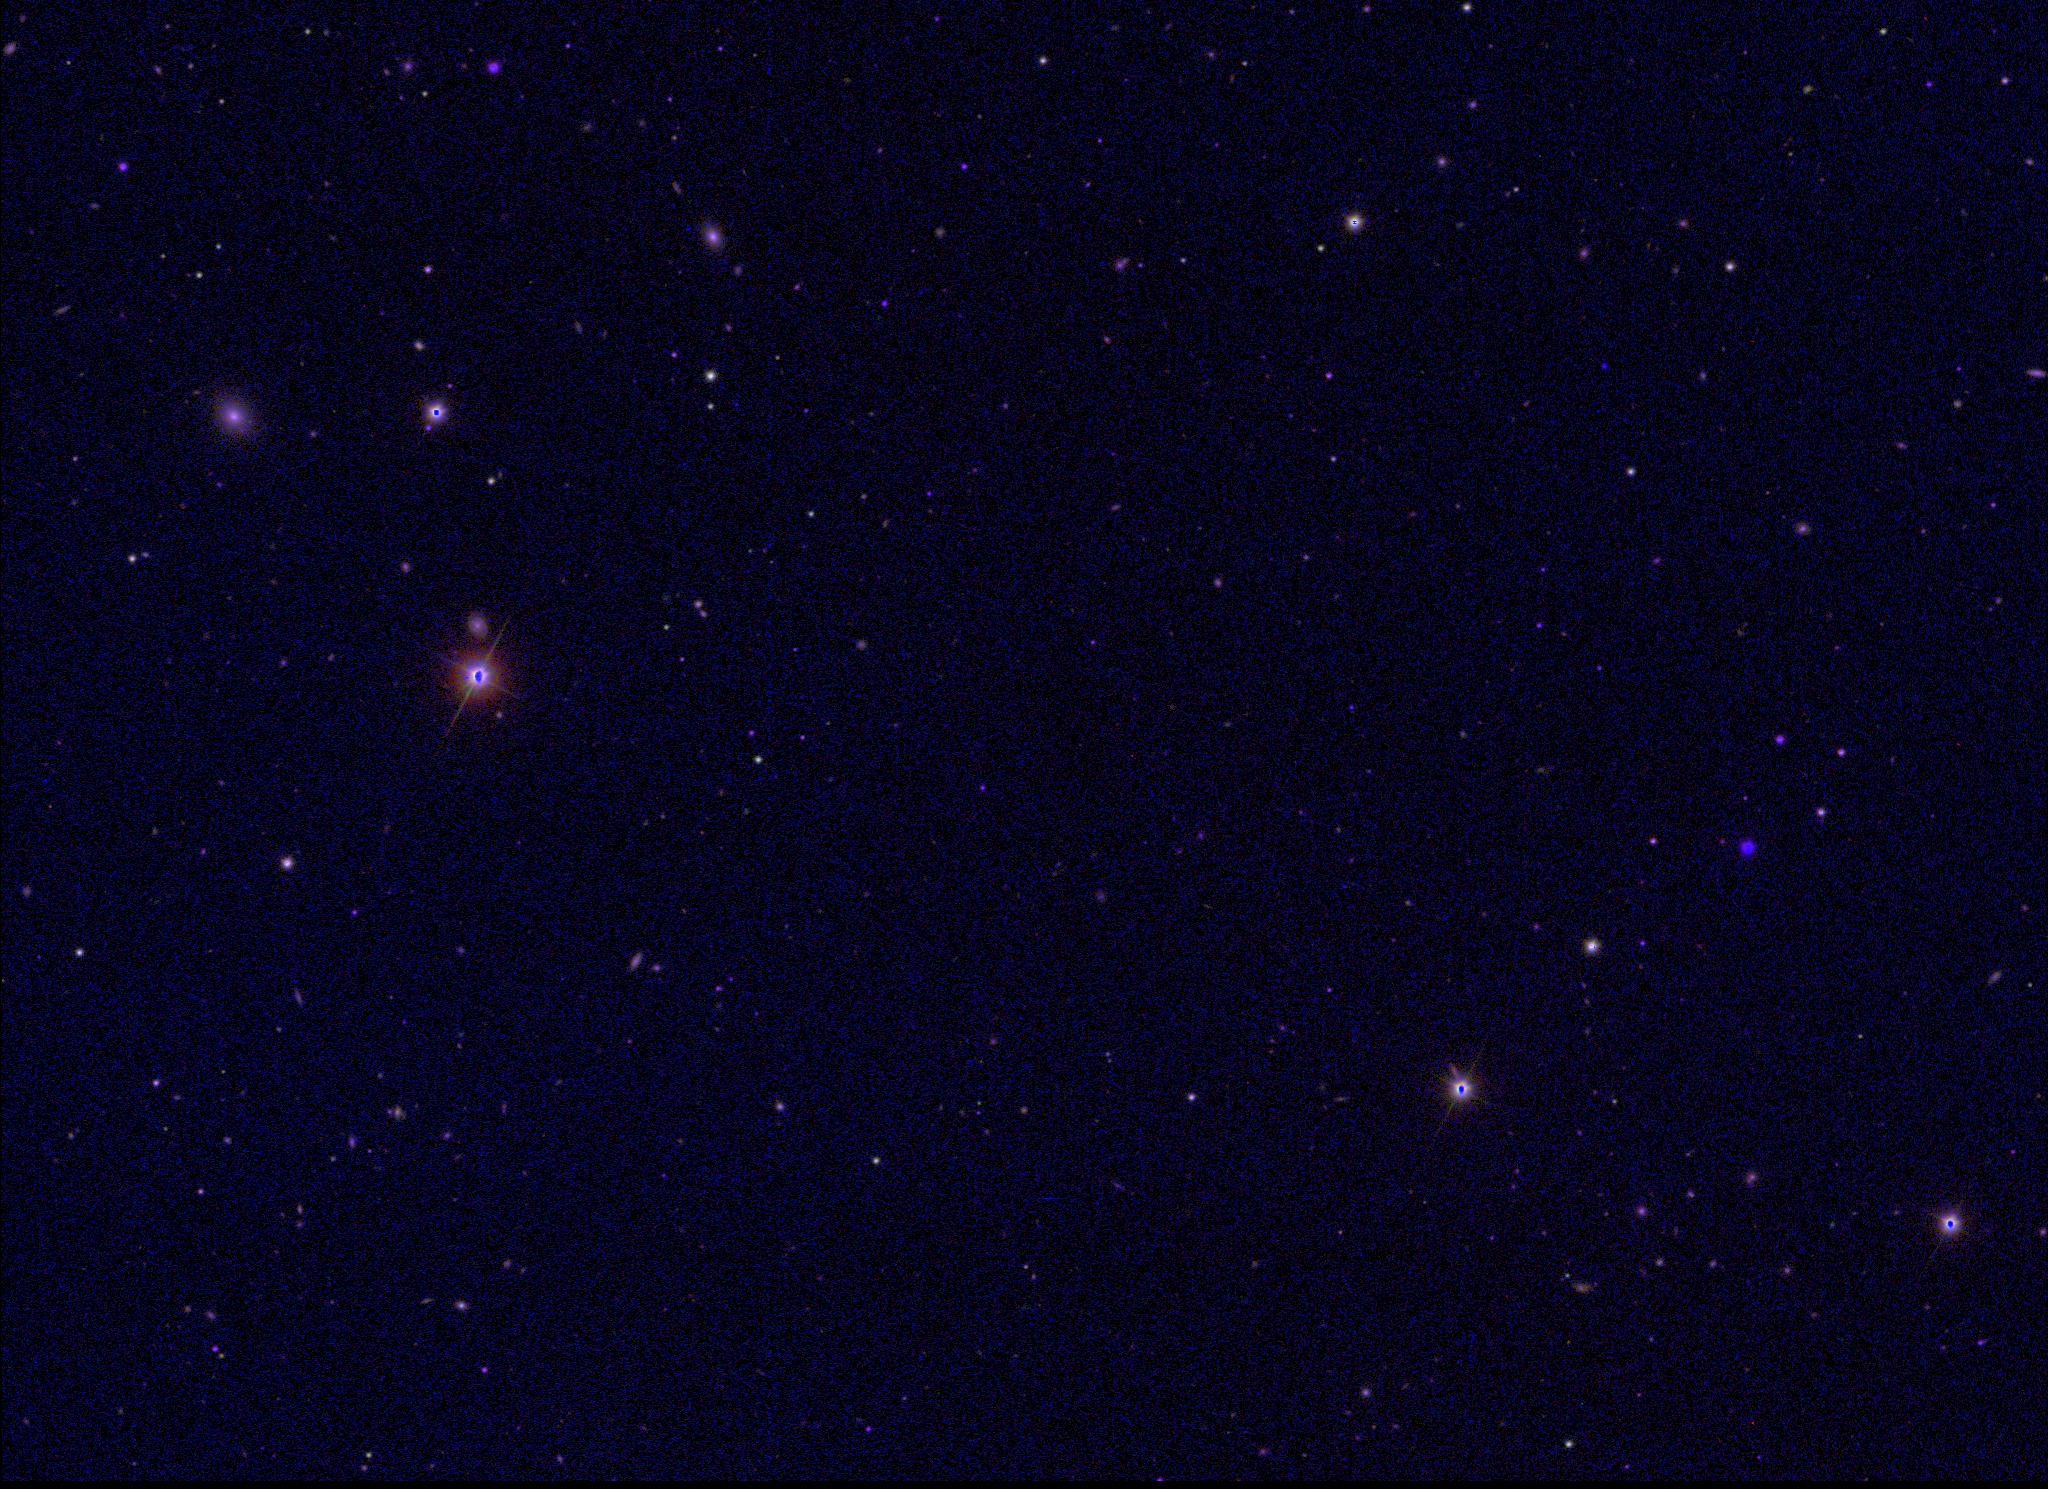L: (1598, 360, 1612, 372)
